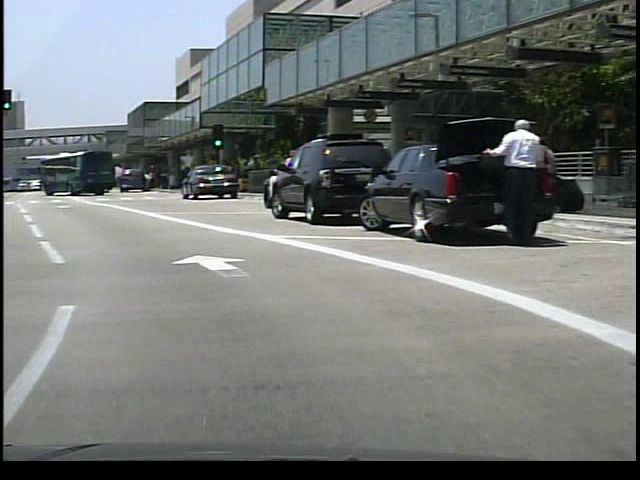person: (476, 106, 544, 252), (544, 134, 545, 217)
